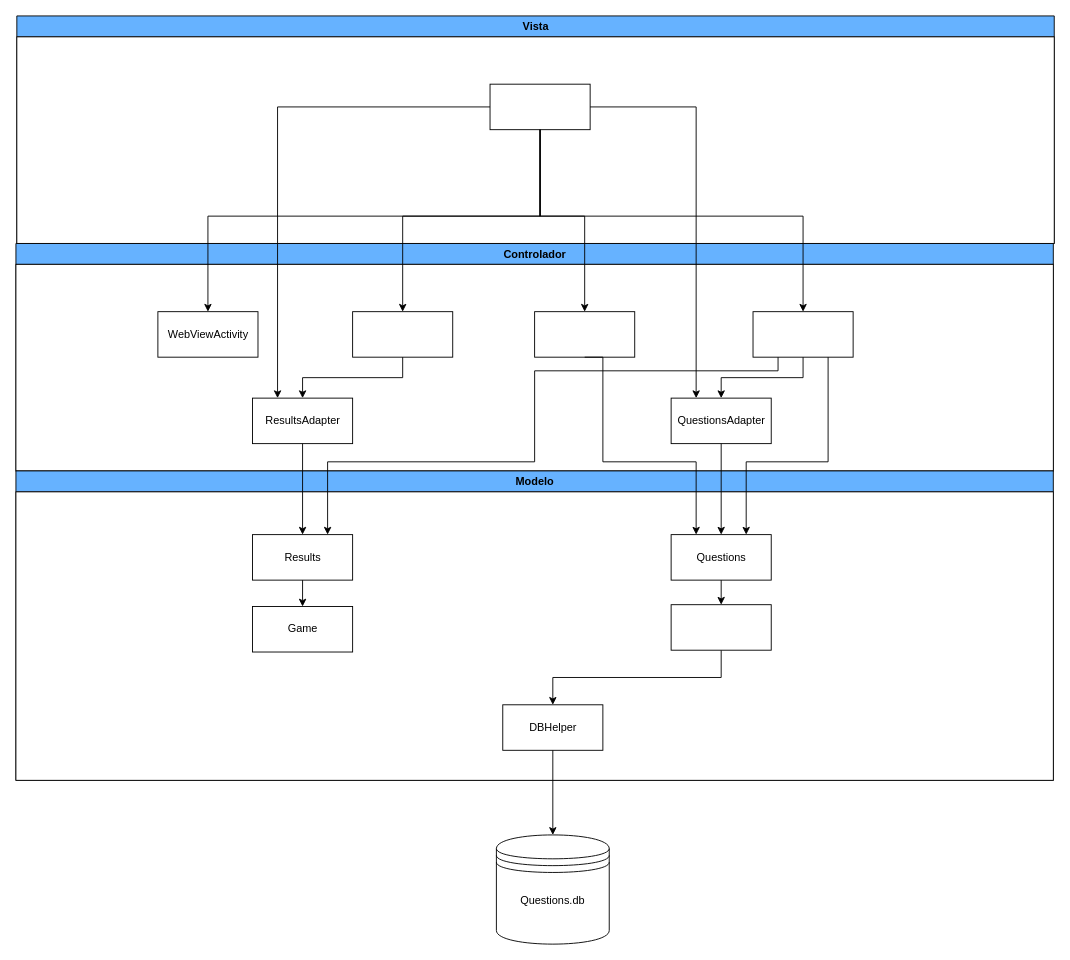
Image size: 1070x960. Some labels were removed from this diagram. Here are the shapes that lost their labels. From the top down, the centre of each, then its label:
At (539,106): "Layouts .xml".
At (402,334): "ResultsActivity".
At (584,334): "MainActivity".
At (802,334): "GameActivity".
At (720,627): "Question".
